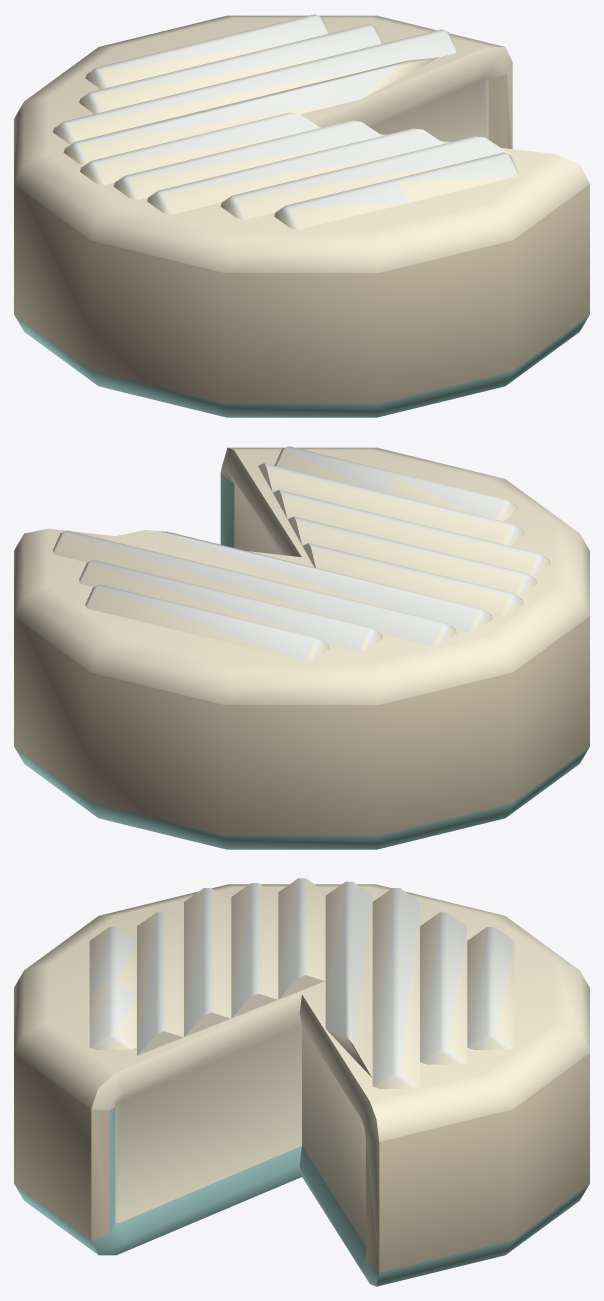
Rendered from itch_tiny_pleasant_picnic_cheese_b.glb.
3 renders of one model, top to bottom at view 1: azimuth 30°, elevation 25°; view 2: azimuth 150°, elevation 25°; view 3: azimuth 270°, elevation 25°, orthographic.
Visible parts, largest first — view 1: cheese_B; view 2: cheese_B; view 3: cheese_B.
Part boxes in pixels (bbox=[...]): cheese_B: bbox=[14, 14, 589, 417]; cheese_B: bbox=[14, 446, 589, 849]; cheese_B: bbox=[14, 878, 589, 1286].
Bounding box in the file's own units: 0.42 × 0.1582 × 0.42.
